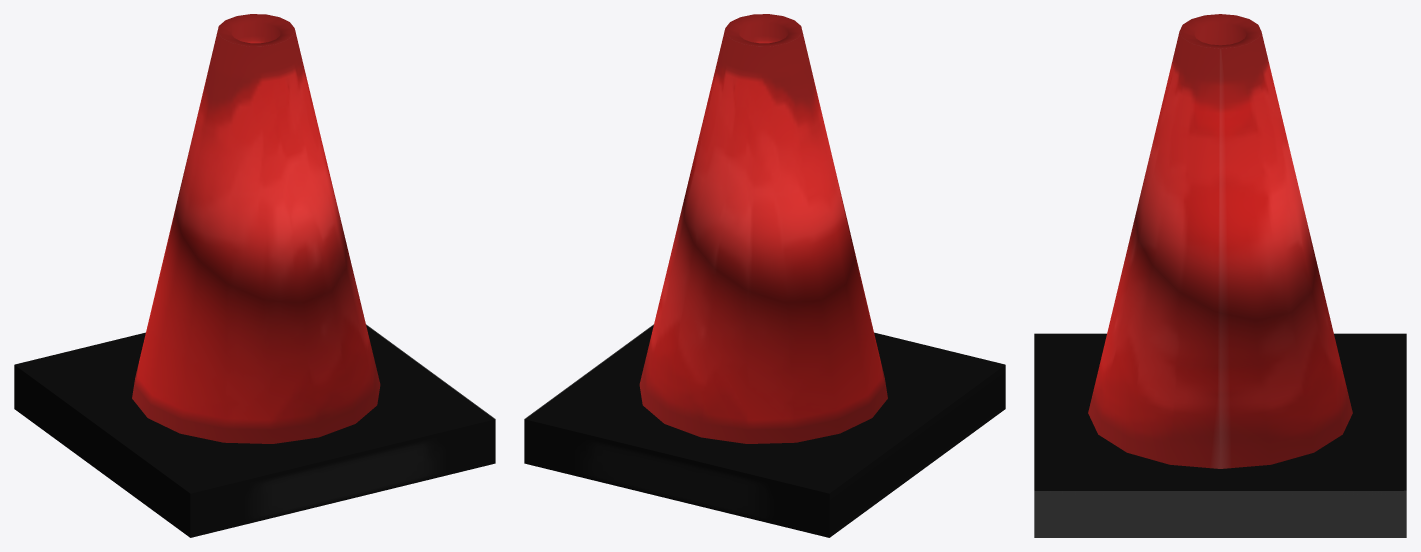
The model's file is Trafic Cone.fbx.
The picture shows the model from 3 angles, left to right: view 1: azimuth 30°, elevation 25°; view 2: azimuth 150°, elevation 25°; view 3: azimuth 270°, elevation 25°; orthographic projection. The views are drawn at different scales.
Visible parts, largest first — view 1: Cone; view 2: Cone; view 3: Cone.
Part boxes in pixels (x1,y1,x2,y2): Cone: (14,14,495,537); Cone: (524,14,1005,537); Cone: (1034,14,1406,537).
Size of the model in its own units: 62.34 by 79.17 by 62.34.
